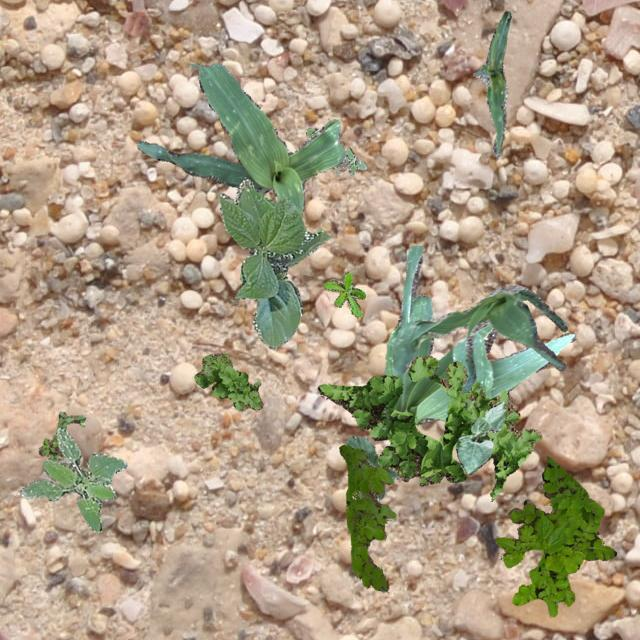crop: (137, 62, 346, 254), (383, 244, 574, 423), (218, 178, 328, 348), (392, 284, 566, 390), (472, 9, 510, 158), (454, 400, 504, 472), (346, 436, 398, 500)
weed: (316, 354, 540, 496), (494, 456, 616, 616), (18, 426, 126, 532), (338, 444, 394, 590), (192, 352, 262, 410), (304, 128, 366, 176), (37, 411, 84, 462), (322, 270, 364, 316)
